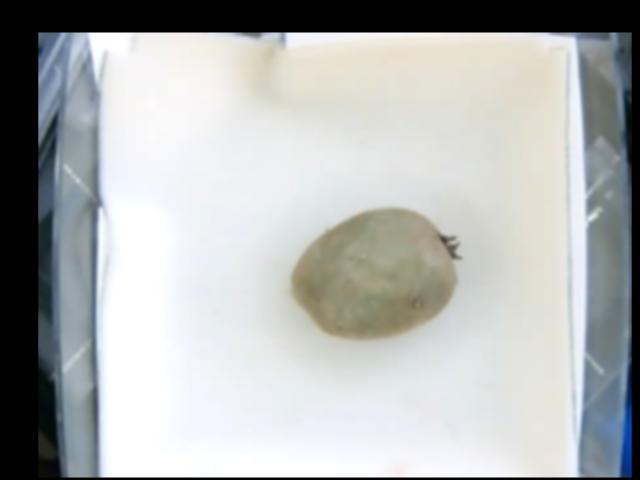Potato: (289, 204, 461, 343)
